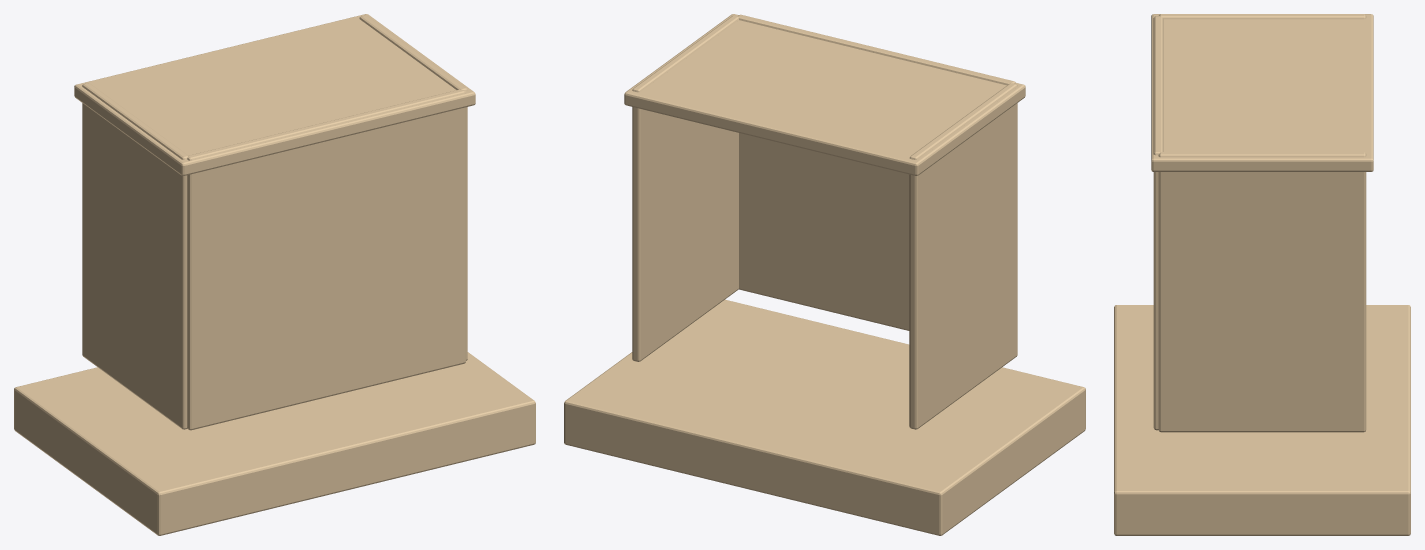
Rendered from teacher_podium.glb.
3 renders of one model, left to right at view 1: azimuth 30°, elevation 25°; view 2: azimuth 150°, elevation 25°; view 3: azimuth 270°, elevation 25°, orthographic.
Visible parts, largest first — view 1: podium_front, podium_base, podium_desk_top, podium_side_l, podium_side_r; view 2: podium_base, podium_desk_top, podium_front, podium_side_l, podium_side_r; view 3: podium_side_r, podium_base, podium_desk_top, podium_front, podium_side_l.
Part boxes in pixels (left/top/right/bottom): podium_front: left=187, top=89, right=465, bottom=430; podium_base: left=14, top=352, right=535, bottom=535; podium_desk_top: left=74, top=14, right=475, bottom=175; podium_side_l: left=82, top=83, right=188, bottom=429; podium_side_r: left=359, top=15, right=467, bottom=360; podium_base: left=564, top=299, right=1085, bottom=535; podium_desk_top: left=624, top=14, right=1025, bottom=175; podium_front: left=738, top=14, right=1015, bottom=330; podium_side_l: left=909, top=83, right=1017, bottom=429; podium_side_r: left=632, top=15, right=738, bottom=361; podium_side_r: left=1158, top=152, right=1366, bottom=432; podium_base: left=1114, top=305, right=1410, bottom=535; podium_desk_top: left=1151, top=14, right=1373, bottom=171; podium_front: left=1153, top=16, right=1163, bottom=430; podium_side_l: left=1159, top=14, right=1366, bottom=19.
Bounding box in the file's own units: 0.9 × 0.8 × 0.6.
